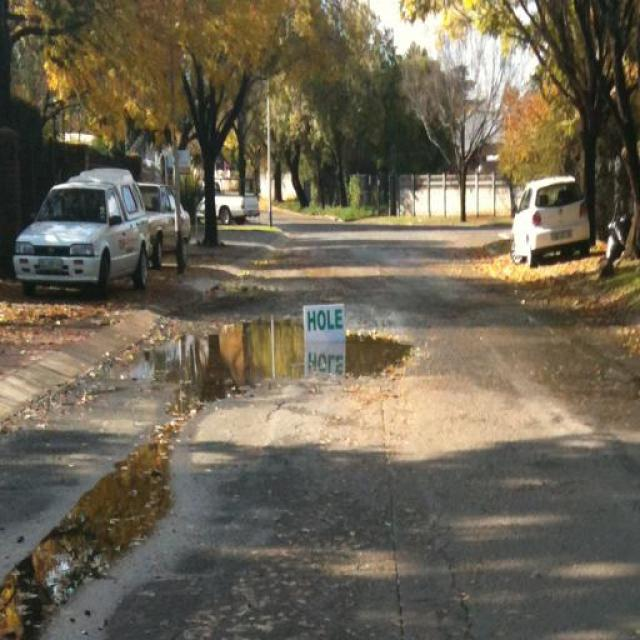puddle: (181, 306, 305, 401)
